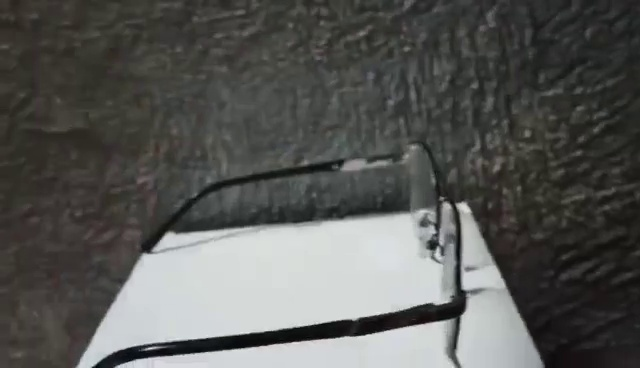glasses: (91, 140, 470, 368)
